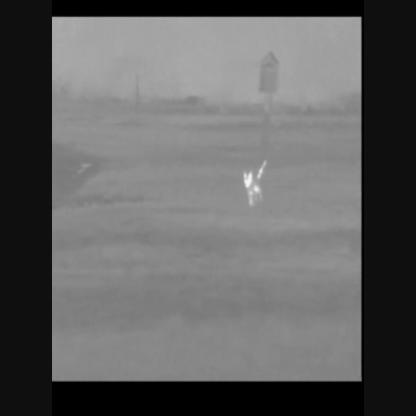rehkitze: (242, 170, 263, 206)
